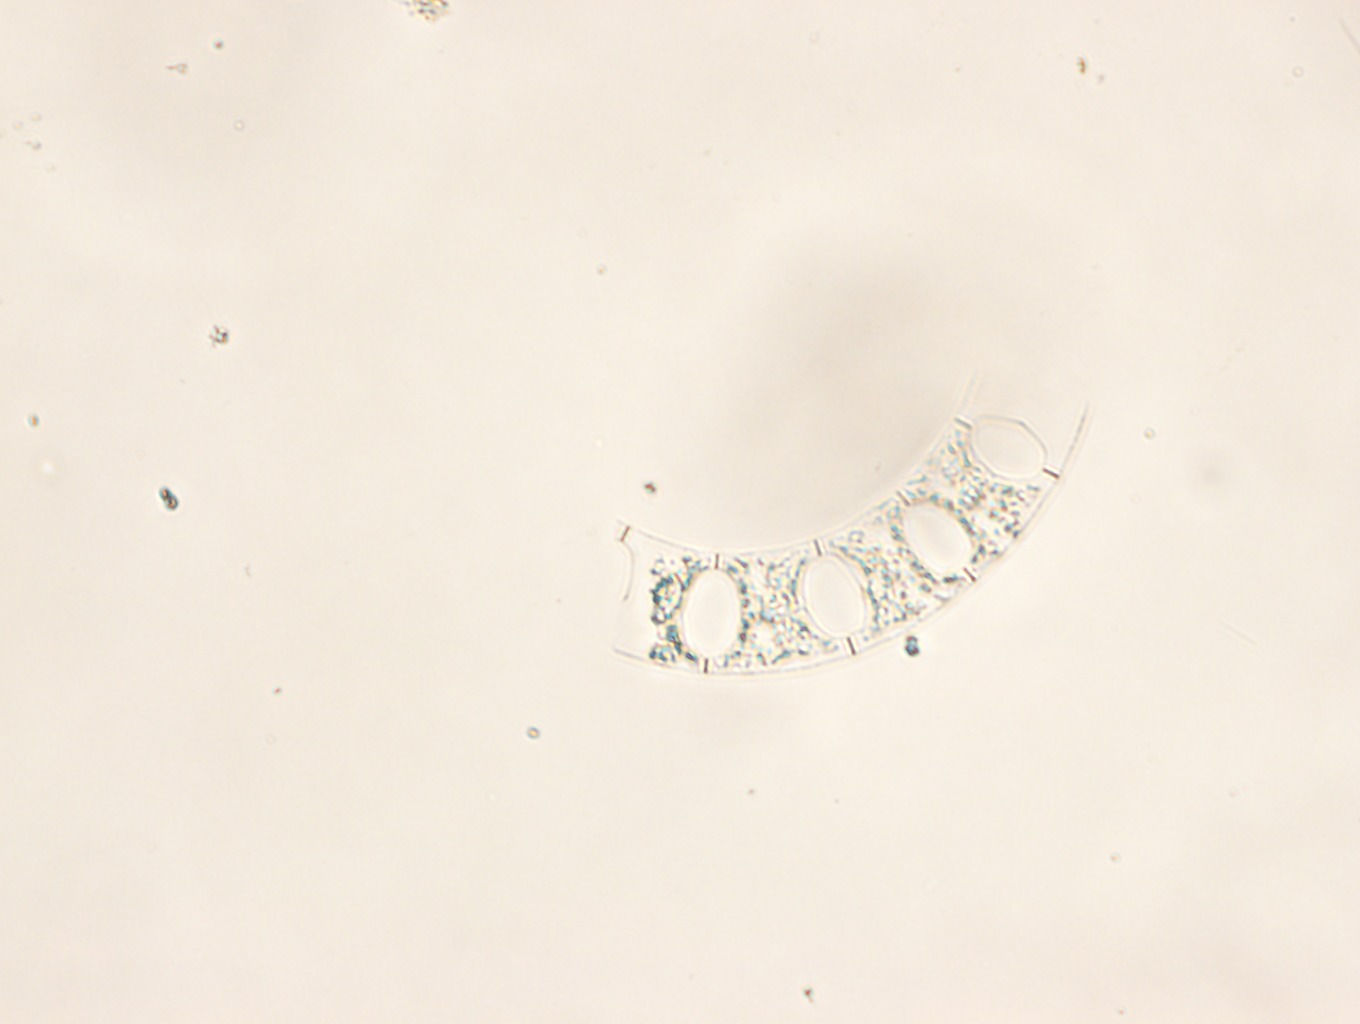eucampia: (610, 372, 1089, 675)
